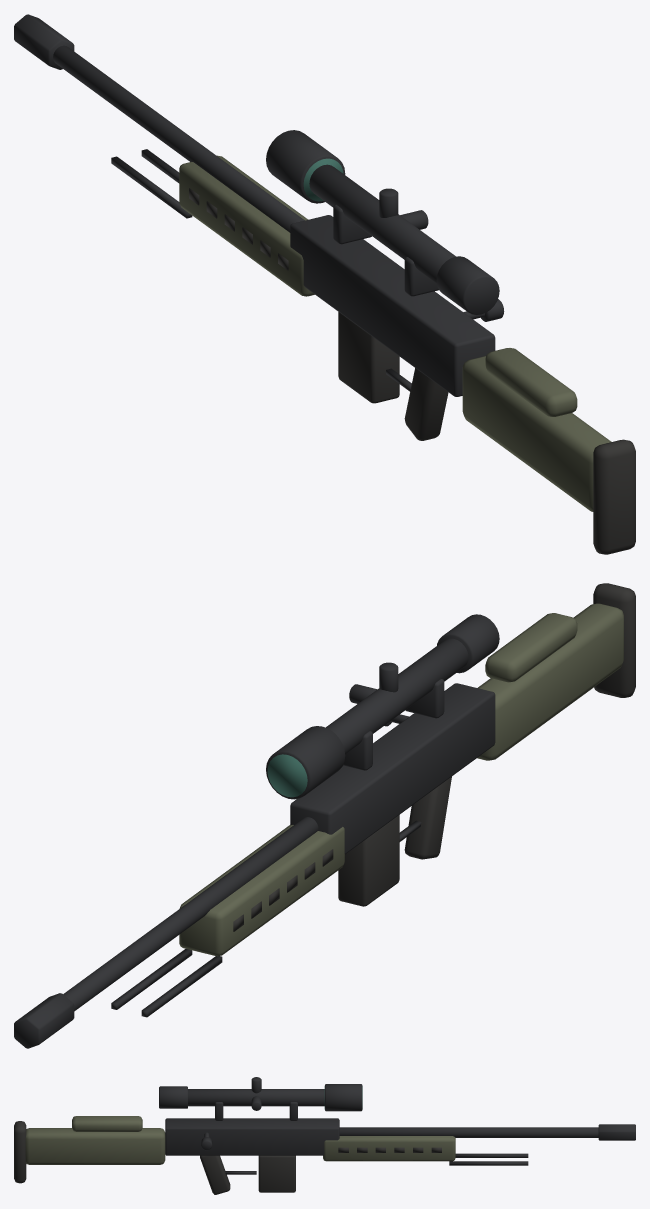
The model's file is sniper.glb.
3 views of the same model, one above another, from view 1: azimuth 30°, elevation 25°; view 2: azimuth 150°, elevation 25°; view 3: azimuth 270°, elevation 25° (orthographic). The views are drawn at different scales.
Visible parts, largest first — view 1: Gunmetal, OD, Polymer; view 2: Gunmetal, OD, Polymer, Lens; view 3: Gunmetal, OD, Polymer.
Part boxes in pixels (left/top/right/bottom): Gunmetal: left=14, top=14, right=504, bottom=396; OD: left=179, top=155, right=611, bottom=511; Polymer: left=189, top=188, right=635, bottom=554; Gunmetal: left=14, top=614, right=499, bottom=1048; OD: left=179, top=603, right=623, bottom=956; Polymer: left=233, top=583, right=635, bottom=931; Lens: left=267, top=754, right=307, bottom=797; Gunmetal: left=159, top=1077, right=635, bottom=1174; OD: left=25, top=1116, right=455, bottom=1164; Polymer: left=14, top=1121, right=441, bottom=1194.
Size of the model in its own units: 0.1255 by 0.3042 by 1.5.
